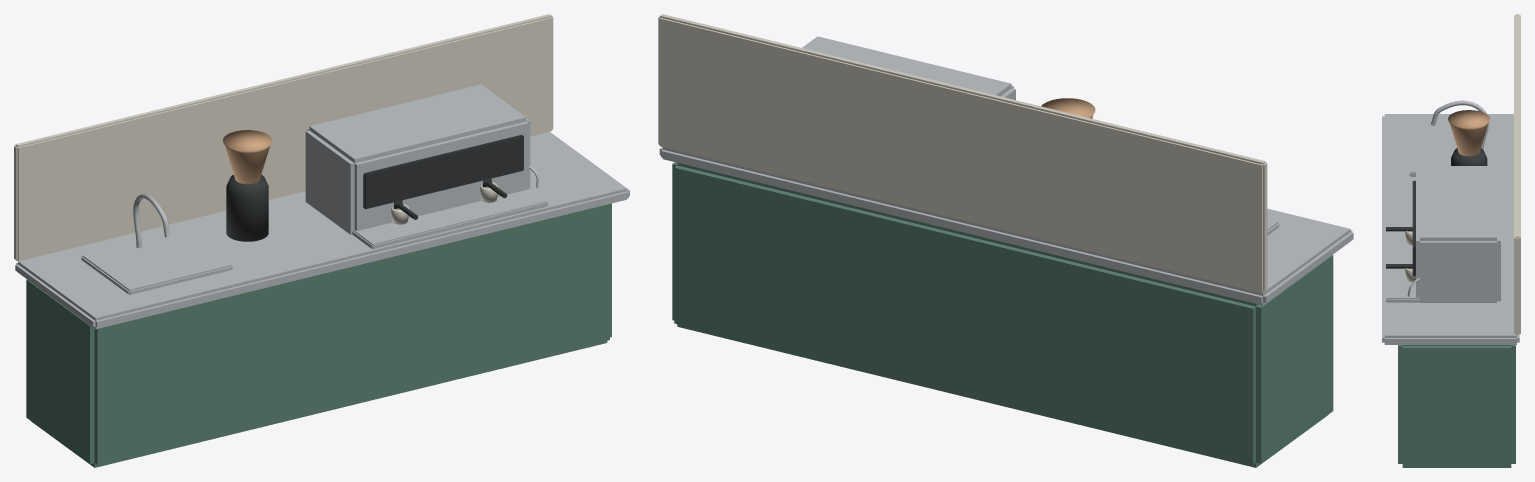
The model's file is cafe_kitchen_line.glb.
3 views of the same model, side by side, from view 1: azimuth 30°, elevation 25°; view 2: azimuth 150°, elevation 25°; view 3: azimuth 270°, elevation 25° (orthographic). The views are drawn at different scales.
Parts seen in each view (by area): view 1: cafe_kitchen_line_V17_sage_enamel, cafe_kitchen_line_Brushed_stainless, cafe_kitchen_line_V17_lacquer_chalk, cafe_kitchen_line_Anodised_graphite, cafe_kitchen_line_V17_ceramic_clay; view 2: cafe_kitchen_line_V17_sage_enamel, cafe_kitchen_line_V17_lacquer_chalk, cafe_kitchen_line_Brushed_stainless, cafe_kitchen_line_V17_ceramic_clay; view 3: cafe_kitchen_line_Brushed_stainless, cafe_kitchen_line_V17_sage_enamel, cafe_kitchen_line_V17_lacquer_chalk, cafe_kitchen_line_V17_ceramic_clay, cafe_kitchen_line_Anodised_graphite.
Part boxes in pixels (left/top/right/bottom): cafe_kitchen_line_V17_sage_enamel: left=26, top=203, right=611, bottom=467; cafe_kitchen_line_Brushed_stainless: left=15, top=84, right=629, bottom=329; cafe_kitchen_line_V17_lacquer_chalk: left=14, top=14, right=553, bottom=261; cafe_kitchen_line_Anodised_graphite: left=226, top=134, right=523, bottom=241; cafe_kitchen_line_V17_ceramic_clay: left=223, top=130, right=272, bottom=184; cafe_kitchen_line_V17_sage_enamel: left=672, top=162, right=1333, bottom=467; cafe_kitchen_line_V17_lacquer_chalk: left=658, top=14, right=1267, bottom=293; cafe_kitchen_line_Brushed_stainless: left=659, top=36, right=1353, bottom=305; cafe_kitchen_line_V17_ceramic_clay: left=1041, top=98, right=1095, bottom=118; cafe_kitchen_line_Brushed_stainless: left=1382, top=100, right=1519, bottom=344; cafe_kitchen_line_V17_sage_enamel: left=1398, top=345, right=1515, bottom=467; cafe_kitchen_line_V17_lacquer_chalk: left=1405, top=14, right=1520, bottom=335; cafe_kitchen_line_V17_ceramic_clay: left=1448, top=110, right=1489, bottom=156; cafe_kitchen_line_Anodised_graphite: left=1386, top=148, right=1487, bottom=276.
Size of the model in its own units: 3.5 by 1.72 by 0.9175.
